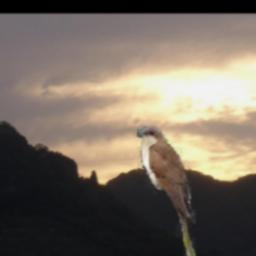Cuckoo: (137, 126, 196, 256)
